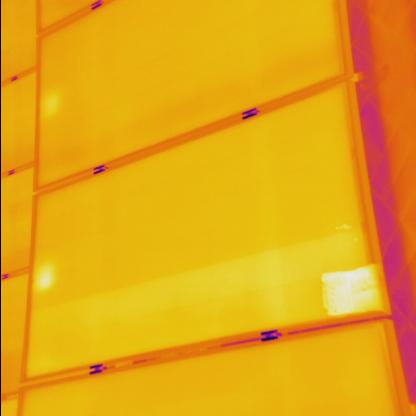hotspot: (318, 264, 382, 320)
